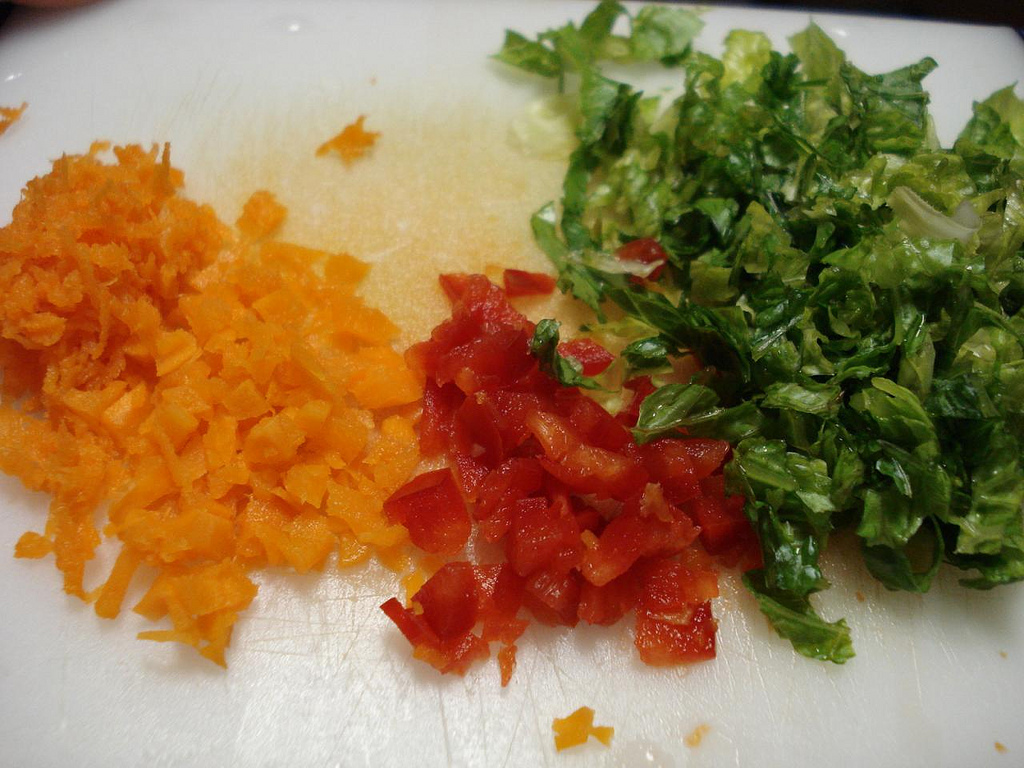chopped lettuce: (558, 24, 1024, 606)
